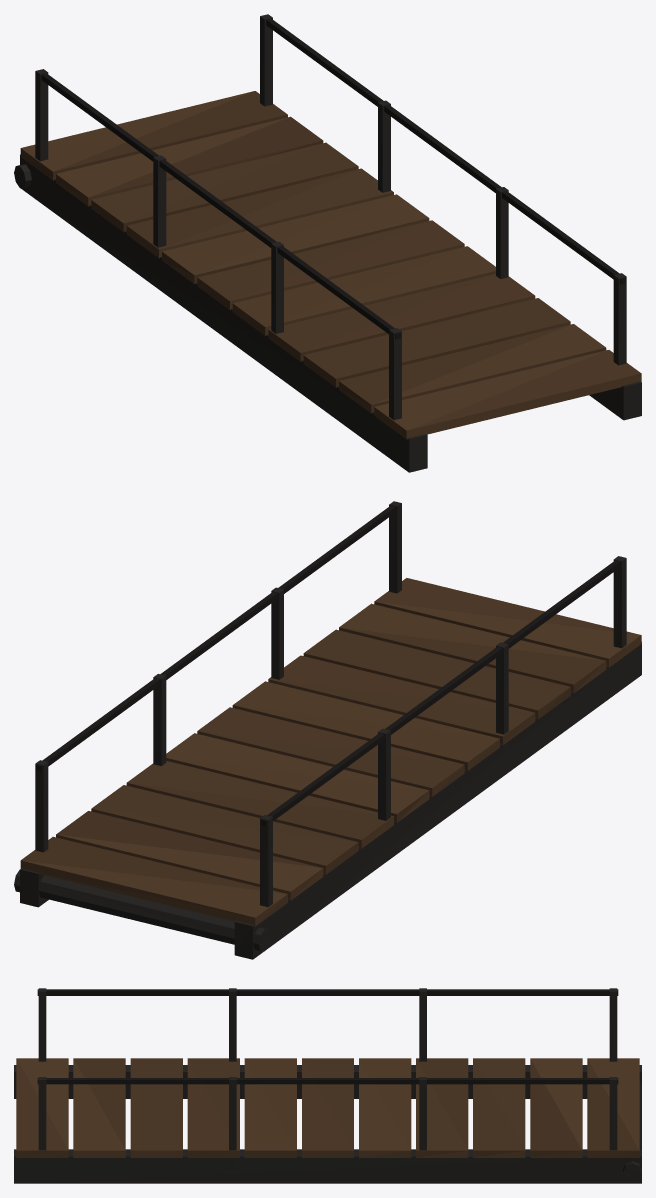
The model's file is lava-gantry-a.glb.
3 views of the same model, one above another, from view 1: azimuth 30°, elevation 25°; view 2: azimuth 150°, elevation 25°; view 3: azimuth 270°, elevation 25° (orthographic). The views are drawn at different scales.
Parts seen in each view (by area): view 1: lava-gantry-a; view 2: lava-gantry-a; view 3: lava-gantry-a.
Boxes of the visible parts, <box> form: lava-gantry-a: <box>14,14,641,472</box>; lava-gantry-a: <box>14,501,641,959</box>; lava-gantry-a: <box>14,988,641,1183</box>.
Size of the model in its own units: 2.4 by 1.2 by 6.6.
